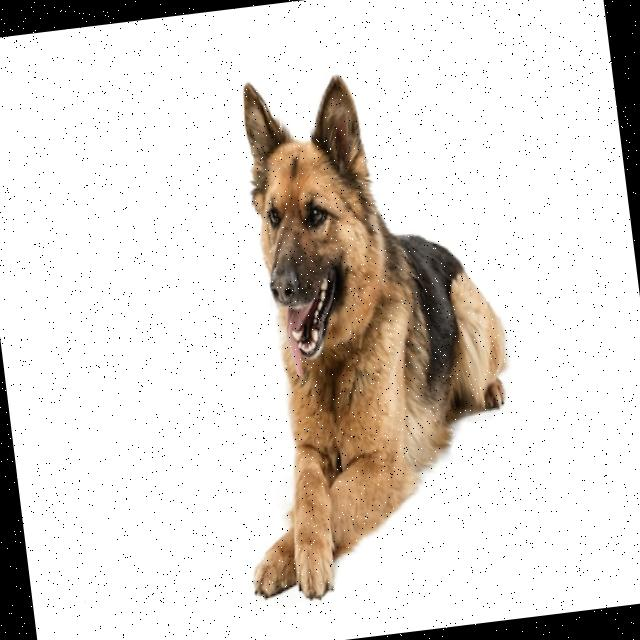Dog: (193, 52, 535, 608)
